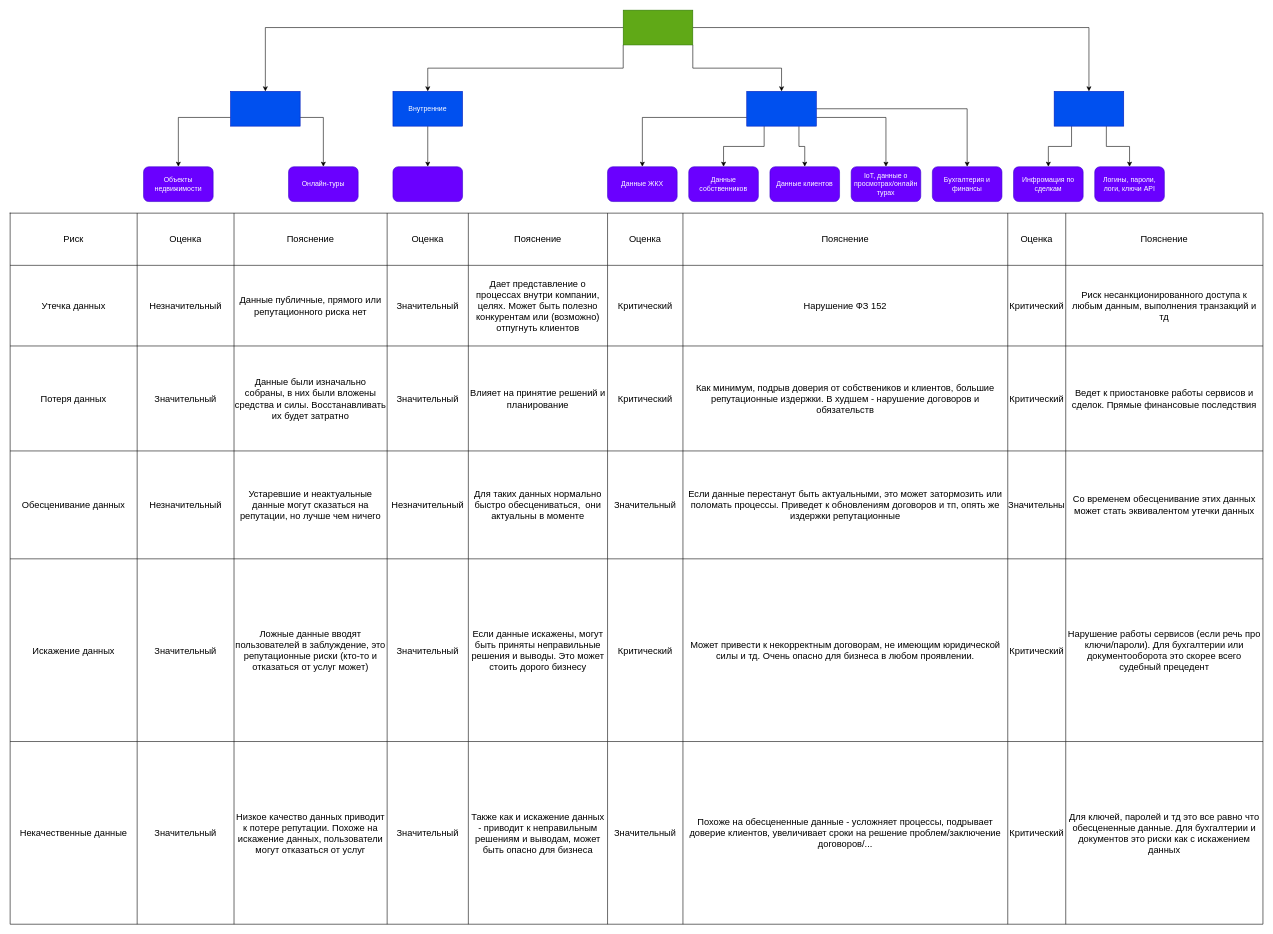
The diagram is 1273 pixels wide and 934 high, and some of its shapes have lost their labels. The shapes that lost their labels are listed below. From the top down, each one's centre as x and y in pixels, then its label:
the point at 658,27: Безопасность данных
the point at 265,108: Публичные
the point at 781,108: Конфиденциальные
the point at 1089,108: Секретные
the point at 427,184: Аналитика и отчетность
